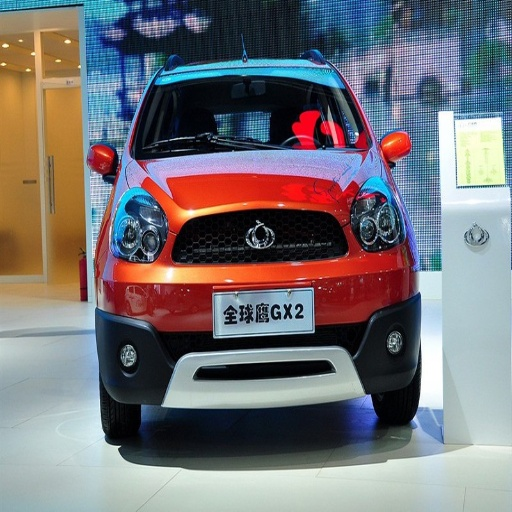front_bumper: (103, 210, 418, 401)
front_right_light: (109, 193, 168, 263)
hood: (125, 152, 384, 221)
